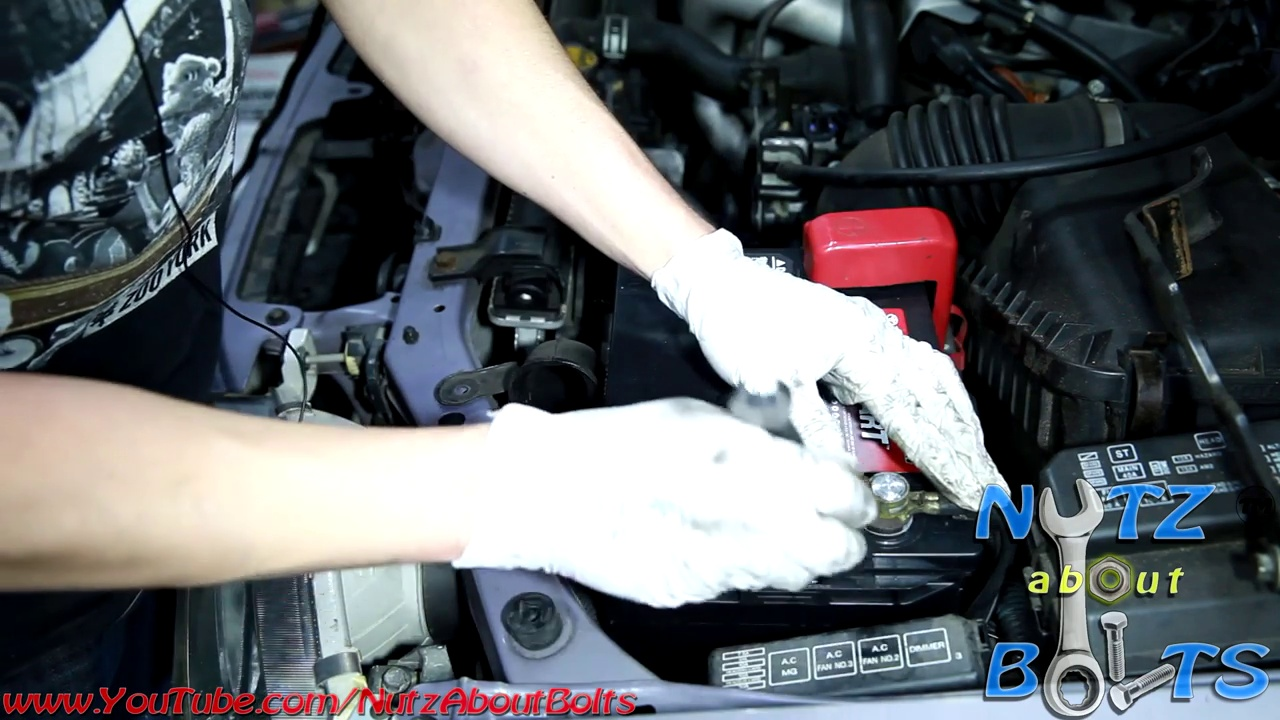battery: (609, 181, 972, 608)
neg_touched: (751, 414, 1003, 576)
pos_connected: (790, 195, 974, 350)
pos_touched: (732, 190, 966, 392)
